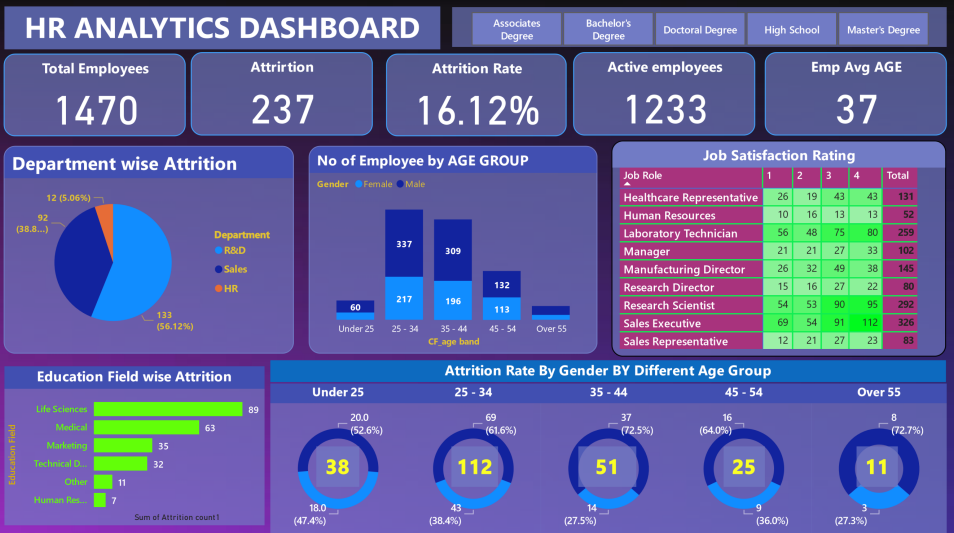

The dashboard page shown, as its layout file describes it:
{"tool":"powerbi","page":{"name":"Page 1","canvas":[1280,720],"ordinal":0},"visuals":[{"type":"card","title":"Total Employees","fields":{"Values":["Sum(HR data.Employee Count)"]},"box":[10.1,73.9,242,110.1],"z":0},{"type":"card","title":"Attrirtion","fields":{"Values":["Sum(HR data.Attrition count1)"]},"box":[259.4,72.5,242,110.1],"z":1000},{"type":"card","title":"Attrition Rate","fields":{"Values":["HR data.Attrition rate"]},"box":[518.8,73.9,240.6,110.1],"z":2000},{"type":"card","title":"Active employees","fields":{"Values":["HR data.active employee"]},"box":[768.1,72.5,242,110.1],"z":3000},{"type":"card","title":"Emp Avg AGE","fields":{"Values":["HR data.average age"]},"box":[1023.2,72.5,242,110.1],"z":4000},{"type":"pieChart","title":"Department wise Attrition ","fields":{"Category":["HR data.Department"],"Y":["Sum(HR data.Attrition count1)"]},"box":[10.1,197.1,385.5,276.8],"z":5000},{"type":"columnChart","title":"No of Employee by AGE GROUP","fields":{"Category":["HR data.CF_age band"],"Y":["Sum(HR data.Employee Count)"],"Series":["HR data.Gender"]},"box":[415.9,197.1,384.1,276.8],"z":6000},{"type":"pivotTable","title":"Job Satisfaction Rating","fields":{"Rows":["HR data.Job Role"],"Columns":["HR data.Job Satisfaction"],"Values":["Sum(HR data.Employee Count)"]},"box":[818.8,189.9,444.9,288.4],"z":7000},{"type":"barChart","title":"Education Field wise  Attrition","fields":{"Category":["HR data.Education Field"],"Y":["Sum(HR data.Attrition count1)"]},"box":[10.8,490.8,346.2,212.3],"z":8000},{"type":"donutChart","title":"Under 25 ","fields":{"Category":["HR data.Gender"],"Y":["Sum(HR data.Attrition count1)"],"Series":["HR data.CF_age band"]},"box":[364.6,513.8,180,206.2],"z":9000},{"type":"textbox","title":"Attrition Rate By Gender BY Different Age Group","box":[365.2,482.6,898.6,29],"z":10000},{"type":"donutChart","title":" 25 - 34 ","fields":{"Category":["HR data.Gender"],"Y":["Sum(HR data.Attrition count1)"],"Series":["HR data.CF_age band"]},"box":[544.6,513.8,180,206.2],"z":11000},{"type":"donutChart","title":"35 - 44","fields":{"Category":["HR data.Gender"],"Y":["Sum(HR data.Attrition count1)"],"Series":["HR data.CF_age band"]},"box":[724.6,513.8,180,206.2],"z":12000},{"type":"donutChart","title":"45 - 54","fields":{"Category":["HR data.Gender"],"Y":["Sum(HR data.Attrition count1)"],"Series":["HR data.CF_age band"]},"box":[904.6,513.8,180,206.2],"z":13000},{"type":"donutChart","title":"Over 55","fields":{"Category":["HR data.Gender"],"Y":["Sum(HR data.Attrition count1)"],"Series":["HR data.CF_age band"]},"box":[1084.6,513.8,180,206.2],"z":14000},{"type":"card","fields":{"Values":["Sum(HR data.Attrition count1)"]},"box":[426.2,598.5,56.9,53.8],"z":15000},{"type":"card","fields":{"Values":["Sum(HR data.Attrition count1)"]},"box":[606.2,598.5,61.5,53.8],"z":16000},{"type":"card","fields":{"Values":["Sum(HR data.Attrition count1)"]},"box":[775.4,598.5,76.9,53.8],"z":17000},{"type":"card","fields":{"Values":["Sum(HR data.Attrition count1)"]},"box":[967.7,598.5,55.4,53.8],"z":18000},{"type":"card","fields":{"Values":["Sum(HR data.Attrition count1)"]},"box":[1144.6,598.5,55.4,53.8],"z":19000},{"type":"textbox","title":"HR ANALYTICS DASHBOARD","box":[10.8,10.8,580,56.9],"z":20000},{"type":"slicer","fields":{"Values":["HR data.Education"]},"box":[607.2,11.6,658,53.6],"z":21000}]}

Visuals, with their boxes in screenshot pixels (x1, y1, x2, y2), scaled from the page's 1280x720 canvas onto the 954x533 screenshot:
"Total Employees" card: (left=8, top=55, right=188, bottom=136)
"Attrirtion" card: (left=193, top=54, right=374, bottom=135)
"Attrition Rate" card: (left=387, top=55, right=566, bottom=136)
"Active employees" card: (left=572, top=54, right=753, bottom=135)
"Emp Avg AGE" card: (left=763, top=54, right=943, bottom=135)
"Department wise Attrition " pieChart: (left=8, top=146, right=295, bottom=351)
"No of Employee by AGE GROUP" columnChart: (left=310, top=146, right=596, bottom=351)
"Job Satisfaction Rating" pivotTable: (left=610, top=141, right=942, bottom=354)
"Education Field wise  Attrition" barChart: (left=8, top=363, right=266, bottom=520)
"Under 25 " donutChart: (left=272, top=380, right=406, bottom=532)
"Attrition Rate By Gender BY Different Age Group" textbox: (left=272, top=357, right=942, bottom=379)
" 25 - 34 " donutChart: (left=406, top=380, right=540, bottom=532)
"35 - 44" donutChart: (left=540, top=380, right=674, bottom=532)
"45 - 54" donutChart: (left=674, top=380, right=808, bottom=532)
"Over 55" donutChart: (left=808, top=380, right=943, bottom=532)
card - Sum(HR data.Attrition count1): (left=318, top=443, right=360, bottom=483)
card - Sum(HR data.Attrition count1): (left=452, top=443, right=498, bottom=483)
card - Sum(HR data.Attrition count1): (left=578, top=443, right=635, bottom=483)
card - Sum(HR data.Attrition count1): (left=721, top=443, right=763, bottom=483)
card - Sum(HR data.Attrition count1): (left=853, top=443, right=894, bottom=483)
"HR ANALYTICS DASHBOARD" textbox: (left=8, top=8, right=440, bottom=50)
slicer - HR data.Education: (left=453, top=9, right=943, bottom=48)
